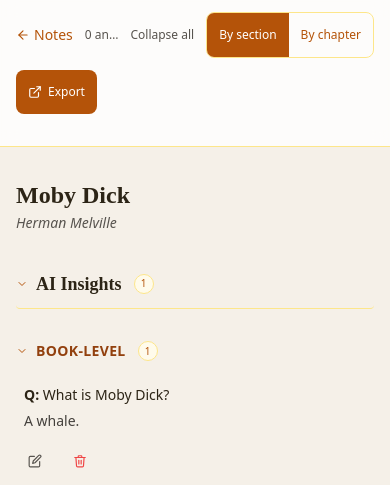
clicking Book-level sub-heading collapses book-level insights (line 483)
Expected: the text "Q: What is Moby Dick?" is shown, [24,385,169,404]
Click the button "Book-level 1" at (81, 350), box [16,329,374,373]
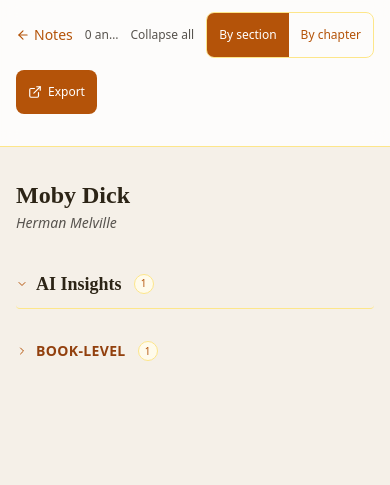
Expected: the text "What is Moby Dick" is gone
